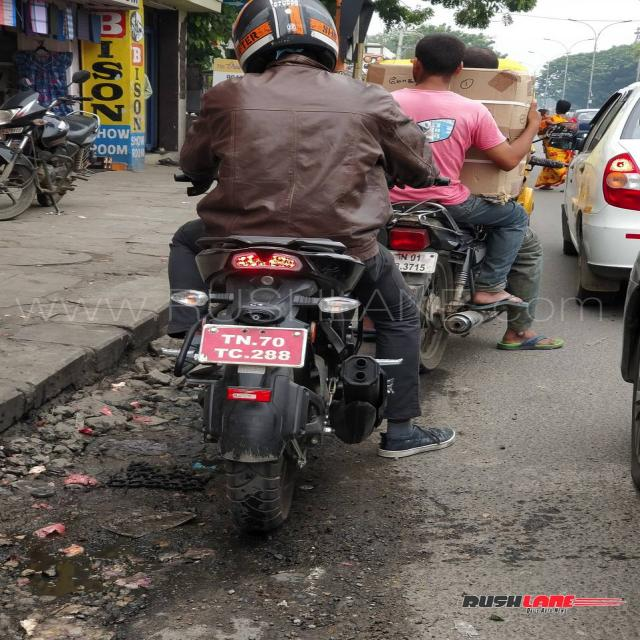number plate: (196, 323, 308, 368), (390, 250, 438, 274)
